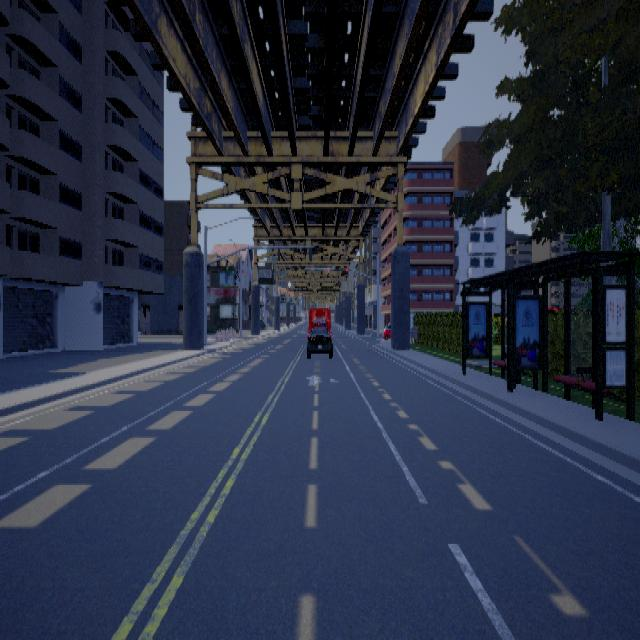vehicle: (306, 307, 332, 357)
